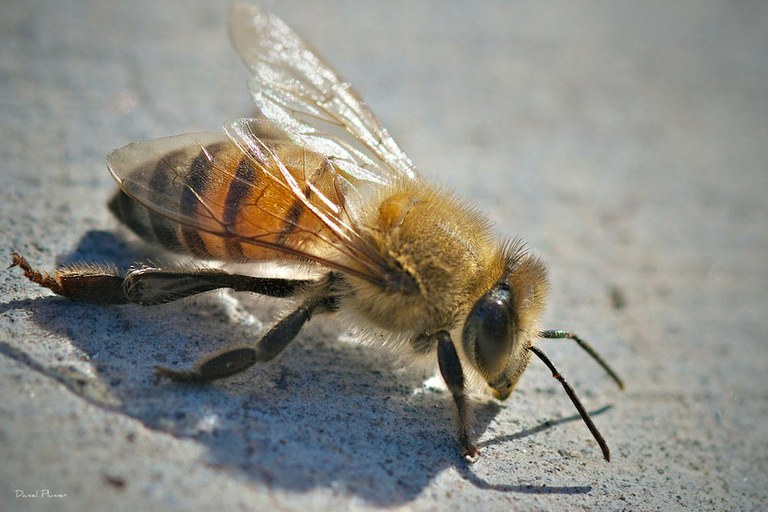Africanized Honey Bee: (5, 1, 639, 478)
